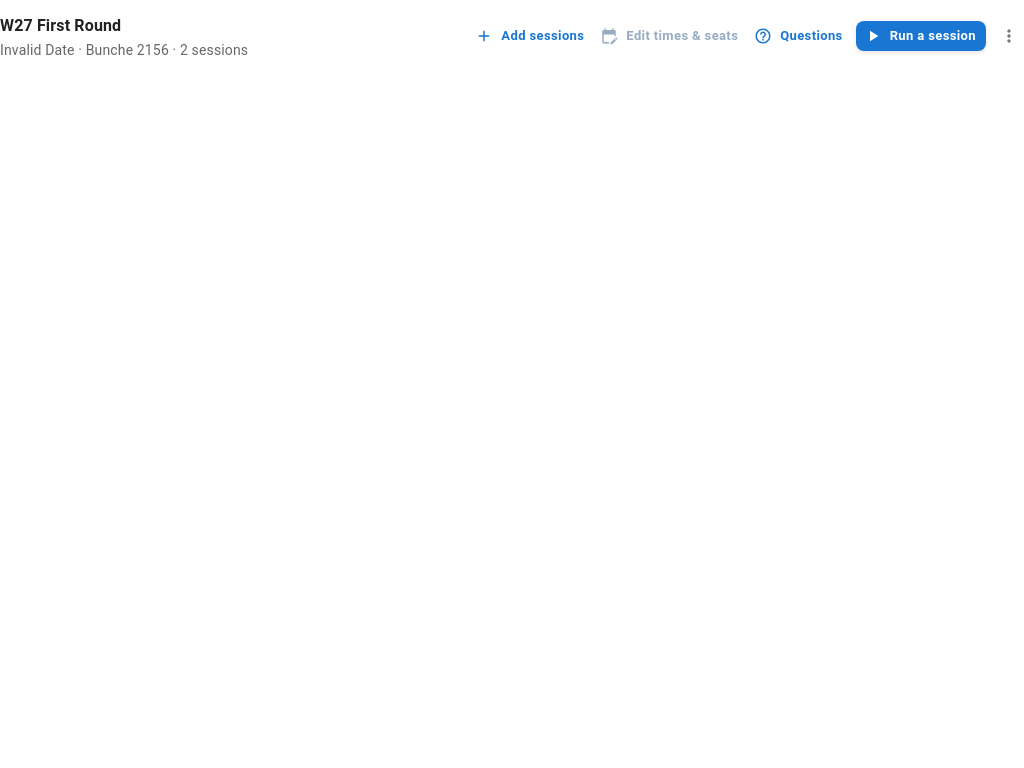
Test: InterviewManageList › counts sessions from the round and offers them when running one
Expected: the text "Invalid Date · Bunche 2156 · 2 sessions" is shown, [0,40,248,60]
Click the button "Run a session" at (921, 36), box [856,21,986,51]
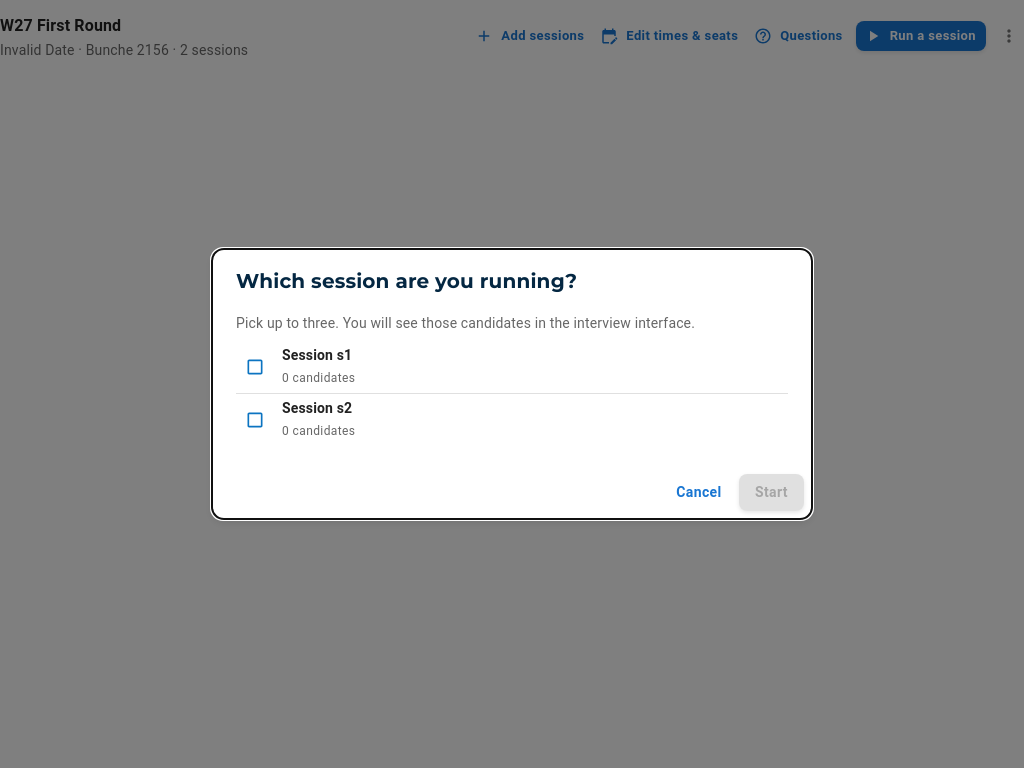
Expected: the text "Session s1" is shown, [282,347,352,363]
Expected: the text "Session s2" is shown, [282,400,352,416]
